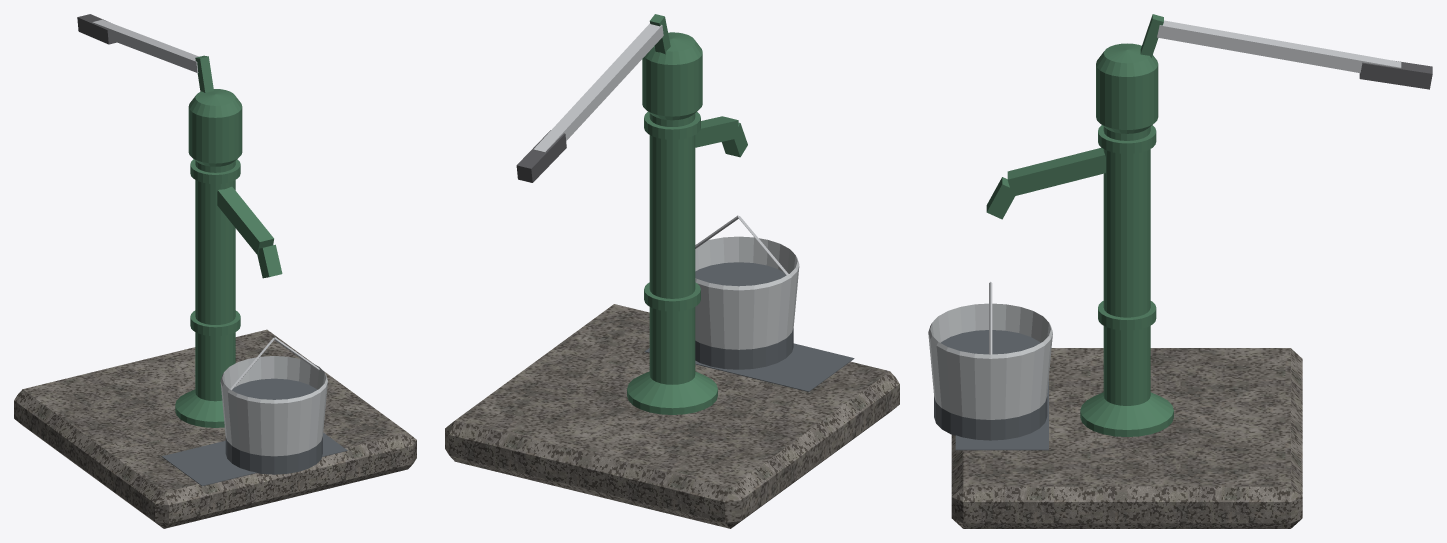
The model's file is bomba_agua_manual.glb.
3 renders of one model, left to right at view 1: azimuth 30°, elevation 25°; view 2: azimuth 150°, elevation 25°; view 3: azimuth 270°, elevation 25°, orthographic. The views are drawn at different scales.
Visible parts, largest first — view 1: bomba_agua_manual_pedra, bomba_agua_manual_verde_maquina, bomba_agua_manual_chapa_galv, bomba_agua_manual_vidro_escuro, bomba_agua_manual_aco, bomba_agua_manual_borracha; view 2: bomba_agua_manual_pedra, bomba_agua_manual_verde_maquina, bomba_agua_manual_chapa_galv, bomba_agua_manual_vidro_escuro, bomba_agua_manual_aco, bomba_agua_manual_borracha; view 3: bomba_agua_manual_pedra, bomba_agua_manual_verde_maquina, bomba_agua_manual_chapa_galv, bomba_agua_manual_vidro_escuro, bomba_agua_manual_aco, bomba_agua_manual_borracha.
Part boxes in pixels (x1=…): bomba_agua_manual_pedra: x1=14, y1=329, x2=416, y2=528; bomba_agua_manual_verde_maquina: x1=175, y1=55, x2=282, y2=427; bomba_agua_manual_chapa_galv: x1=220, y1=356, x2=327, y2=456; bomba_agua_manual_vidro_escuro: x1=161, y1=378, x2=347, y2=486; bomba_agua_manual_aco: x1=92, y1=19, x2=319, y2=390; bomba_agua_manual_borracha: x1=77, y1=14, x2=116, y2=44; bomba_agua_manual_pedra: x1=445, y1=304, x2=899, y2=528; bomba_agua_manual_verde_maquina: x1=627, y1=14, x2=747, y2=414; bomba_agua_manual_chapa_galv: x1=695, y1=236, x2=799, y2=349; bomba_agua_manual_vidro_escuro: x1=644, y1=262, x2=854, y2=391; bomba_agua_manual_aco: x1=533, y1=23, x2=788, y2=275; bomba_agua_manual_borracha: x1=516, y1=130, x2=566, y2=182; bomba_agua_manual_pedra: x1=951, y1=348, x2=1302, y2=528; bomba_agua_manual_verde_maquina: x1=986, y1=14, x2=1173, y2=436; bomba_agua_manual_chapa_galv: x1=928, y1=303, x2=1052, y2=419; bomba_agua_manual_vidro_escuro: x1=934, y1=330, x2=1048, y2=450; bomba_agua_manual_aco: x1=989, y1=20, x2=1401, y2=354; bomba_agua_manual_borracha: x1=1359, y1=61, x2=1432, y2=89.
Size of the model in its own units: 0.9 by 1.25 by 1.29.
Materials: 6 (1 with a texture image).
